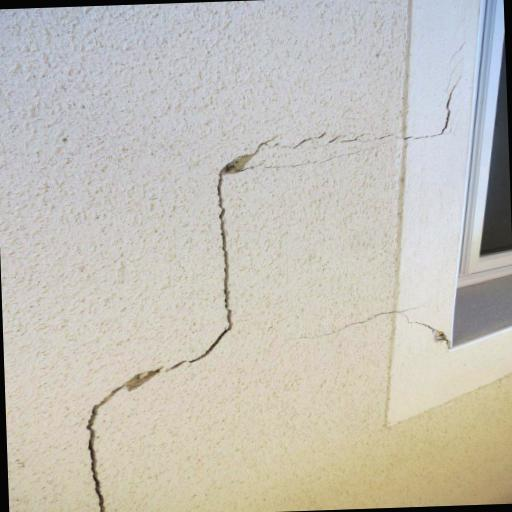spalling: (80, 127, 291, 512), (428, 72, 467, 144)
